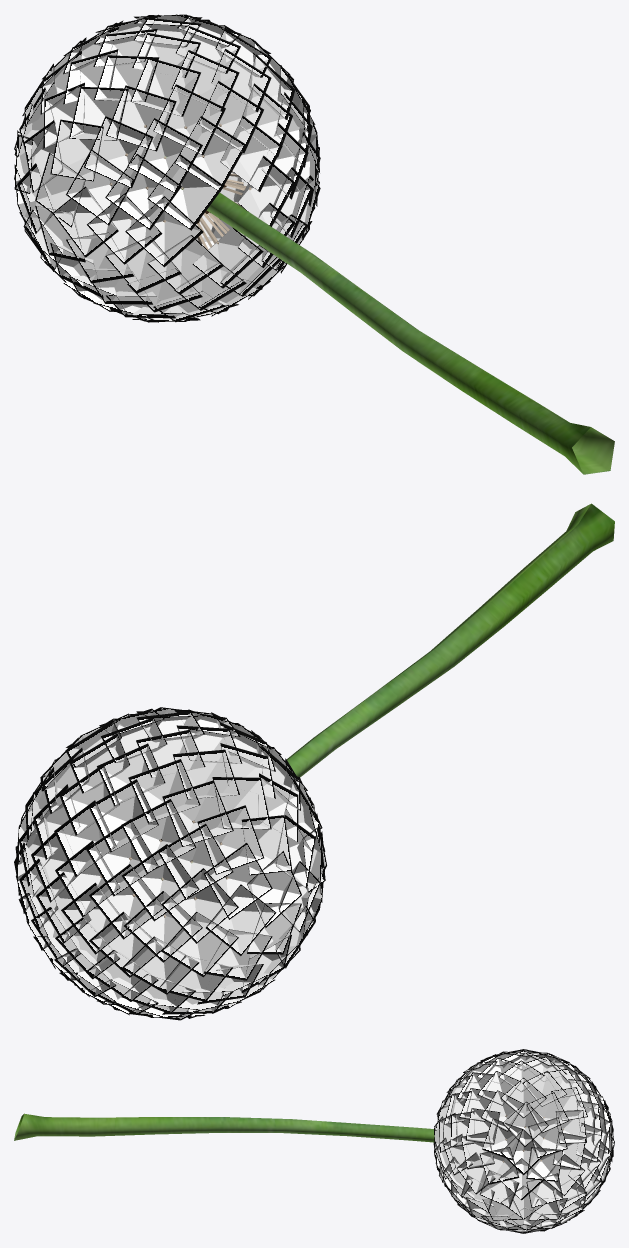
Rendered from dandelion.glb.
The picture shows the model from 3 angles, top to bottom: view 1: azimuth 30°, elevation 25°; view 2: azimuth 150°, elevation 25°; view 3: azimuth 270°, elevation 25°; orthographic projection. The views are drawn at different scales.
Parts seen in each view (by area): view 1: dandelion.004; view 2: dandelion.004; view 3: dandelion.004.
Boxes of the visible parts, <box> form: dandelion.004: <box>14,14,614,474</box>; dandelion.004: <box>14,503,614,1020</box>; dandelion.004: <box>14,1049,614,1233</box>.
Size of the model in its own units: 0.3041 by 0.3028 by 0.9892.
Materials: 5 (2 with a texture image).
